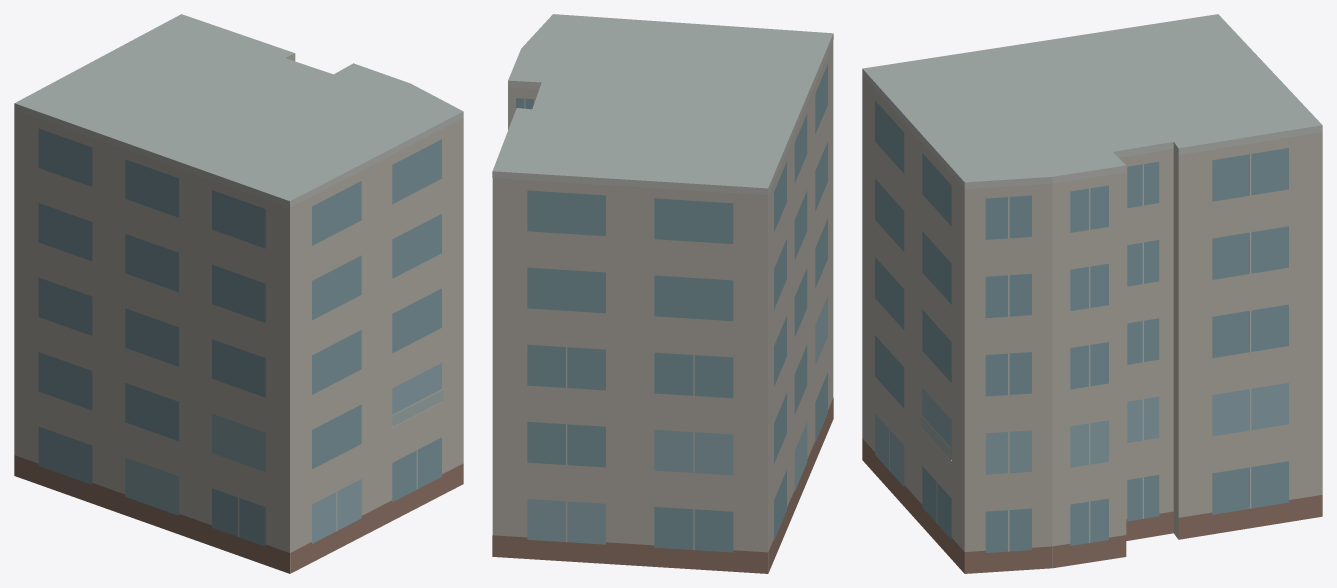
The model's file is survey-upis-32851435.glb.
3 views of the same model, side by side, from view 1: azimuth 30°, elevation 25°; view 2: azimuth 150°, elevation 25°; view 3: azimuth 270°, elevation 25° (orthographic). The views are drawn at different scales.
Visible parts, largest first — view 1: survey-upis-32851435.tmp; view 2: survey-upis-32851435.tmp; view 3: survey-upis-32851435.tmp.
Boxes of the visible parts, x1,y1,x2,y2 form: survey-upis-32851435.tmp: (14,14,463,573); survey-upis-32851435.tmp: (492,14,833,573); survey-upis-32851435.tmp: (862,14,1322,573).
Size of the model in its own units: 12.93 by 14 by 14.93.
